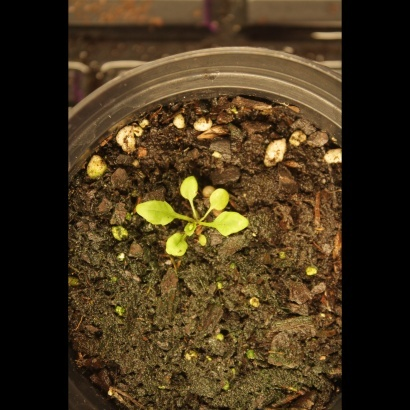leaf: (129, 196, 182, 230), (213, 209, 252, 239), (165, 231, 189, 261), (208, 186, 232, 213), (178, 174, 201, 202), (180, 217, 203, 240)
